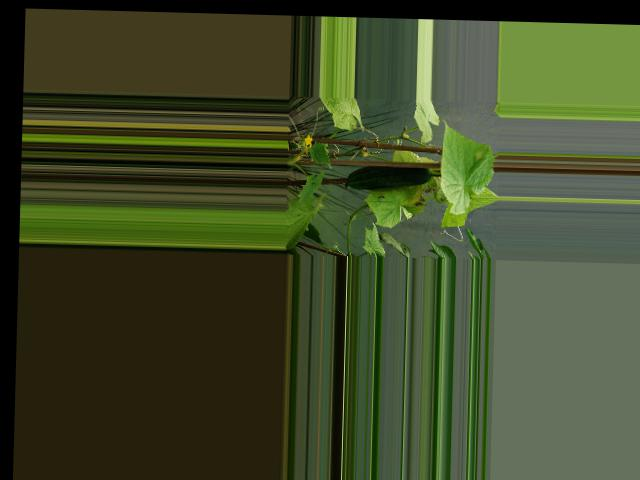cucumber: (345, 164, 431, 191)
